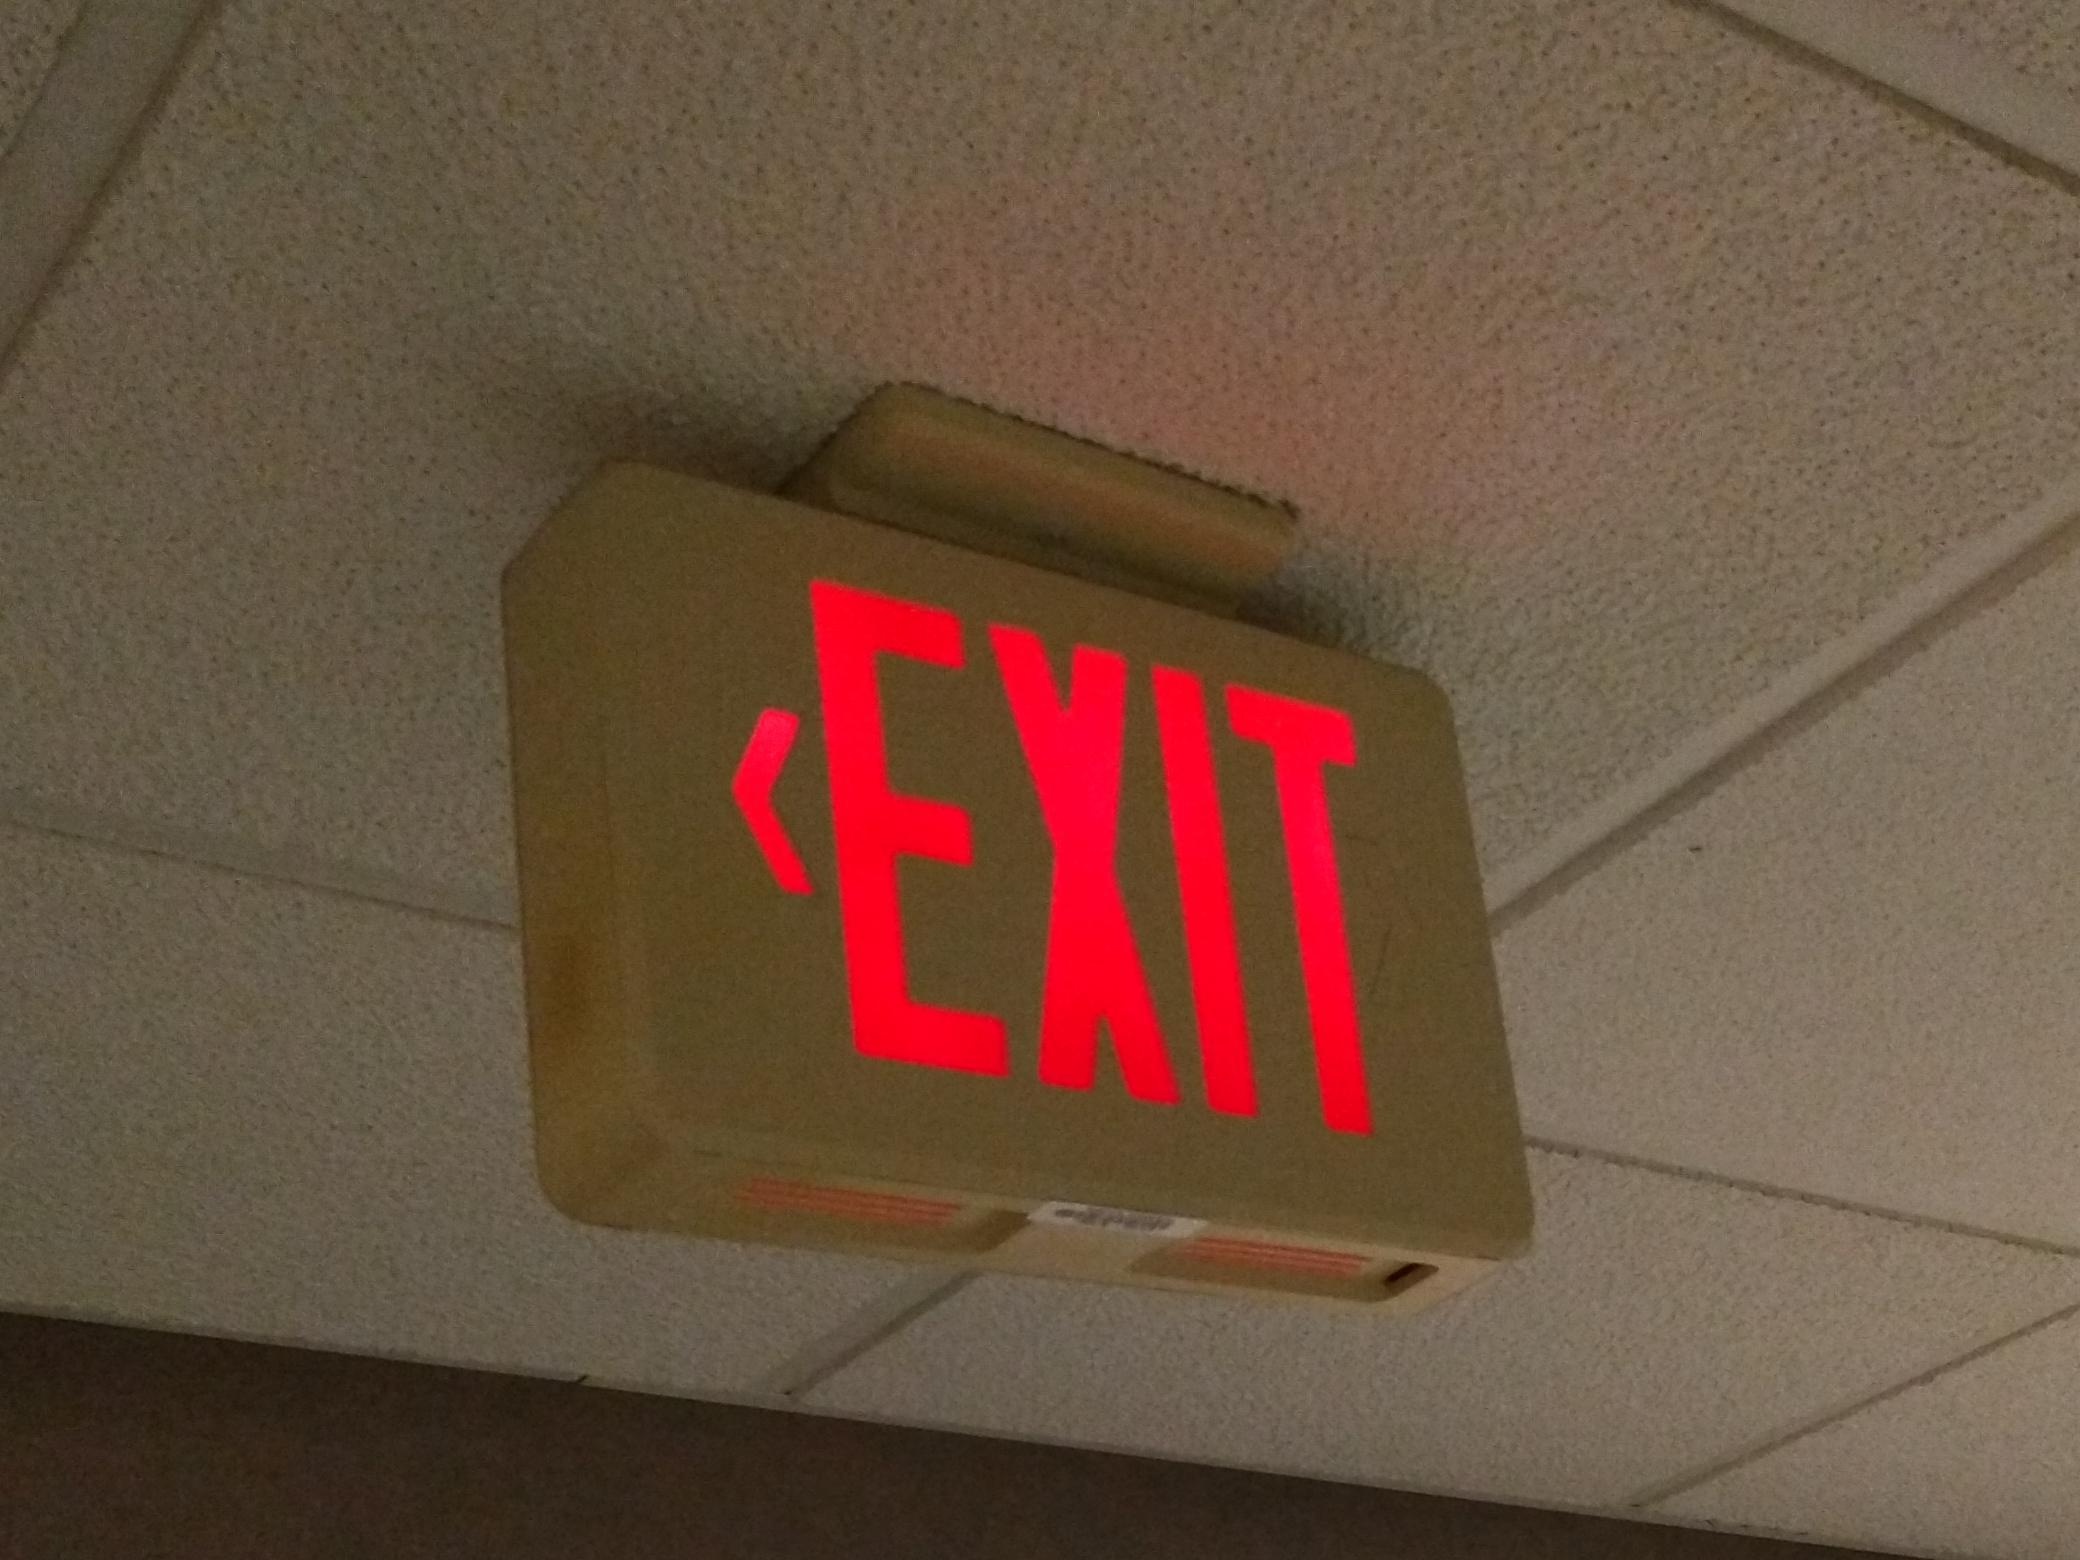sign: (501, 464, 1536, 1326)
